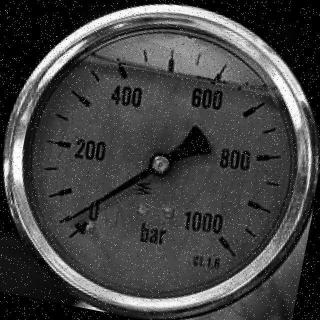gauge: (0, 0, 320, 320), (56, 194, 112, 252), (203, 221, 241, 260), (147, 150, 176, 178), (58, 210, 74, 226)
